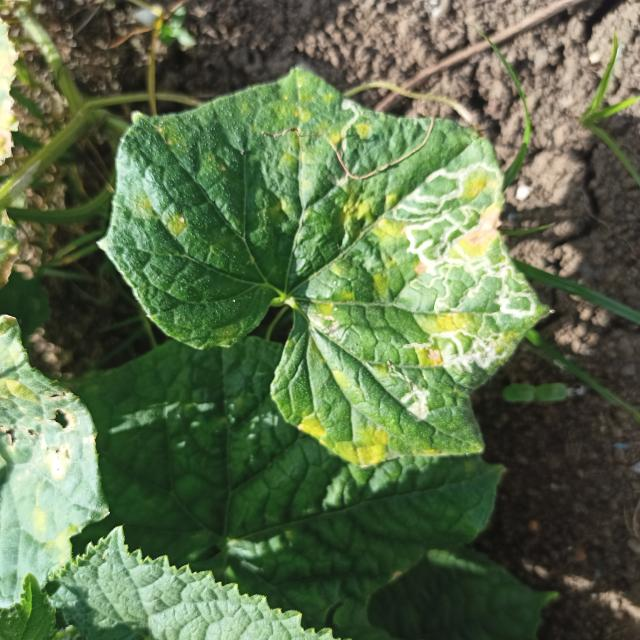disease_cucumber: (306, 163, 542, 366), (264, 86, 378, 218), (286, 368, 396, 470), (128, 197, 189, 242)
